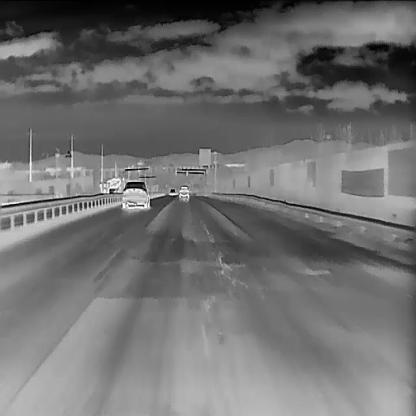car: (121, 180, 150, 207), (178, 184, 190, 198), (169, 188, 176, 195)
truck: (98, 176, 122, 197)
